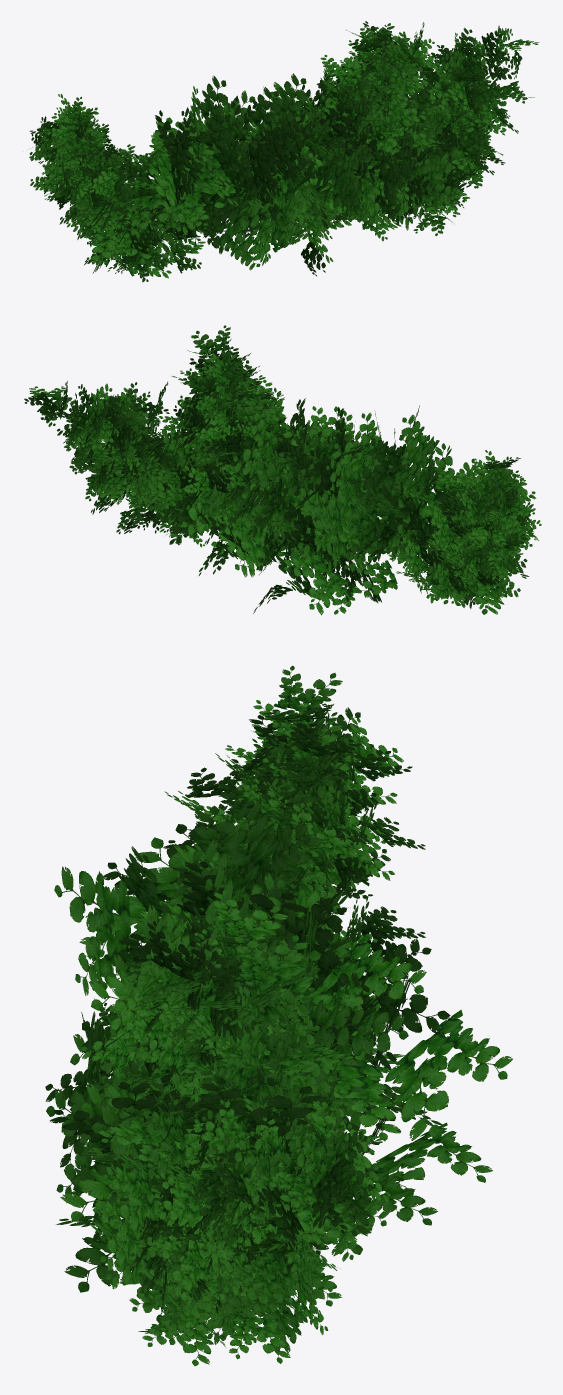
Rendered from arbusto.obj.
3 views of the same model, one above another, from view 1: azimuth 30°, elevation 25°; view 2: azimuth 150°, elevation 25°; view 3: azimuth 270°, elevation 25° (orthographic). The views are drawn at different scales.
Parts seen in each view (by area): view 1: leaves_Leaves_0.002; view 2: leaves_Leaves_0.002; view 3: leaves_Leaves_0.002.
Part boxes in pixels (left/top/right/bottom): leaves_Leaves_0.002: left=29, top=21, right=539, bottom=282; leaves_Leaves_0.002: left=24, top=325, right=541, bottom=615; leaves_Leaves_0.002: left=45, top=665, right=512, bottom=1365.
Size of the model in its own units: 2.99 by 1.21 by 1.4.
